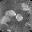people: (5, 9, 16, 18), (1, 16, 12, 25), (15, 14, 23, 22)
